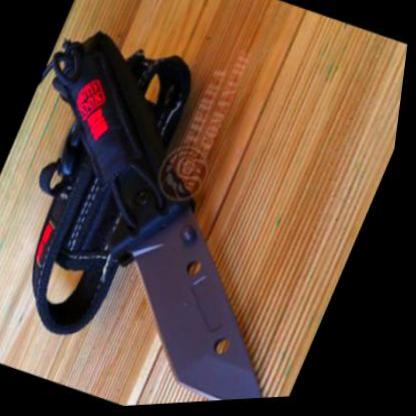knife: (85, 194, 355, 408)
